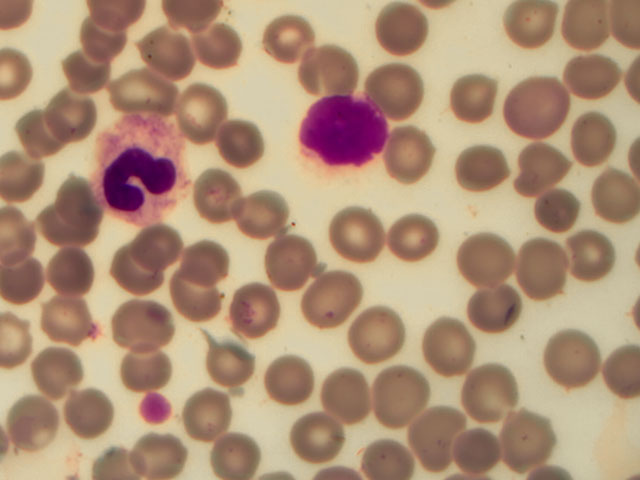Platelets: (140, 391, 175, 426)
RBC: (75, 8, 130, 62), (61, 45, 116, 99), (39, 87, 94, 141), (10, 103, 65, 157), (2, 146, 57, 200), (47, 182, 102, 236), (44, 247, 99, 301), (40, 293, 95, 347), (30, 343, 85, 397), (67, 391, 122, 445), (5, 396, 60, 450), (120, 339, 175, 393), (121, 287, 176, 341), (108, 252, 163, 306), (137, 207, 192, 261), (177, 233, 232, 287), (173, 278, 228, 332), (206, 337, 261, 391), (239, 284, 294, 338), (256, 236, 311, 290), (229, 173, 284, 227), (204, 172, 259, 226), (214, 120, 269, 174), (182, 86, 237, 140), (126, 63, 181, 117), (133, 24, 188, 78), (195, 16, 250, 70), (256, 7, 311, 61), (299, 33, 354, 87), (360, 51, 415, 105), (364, 2, 419, 56), (387, 136, 442, 190), (447, 62, 502, 116), (514, 80, 569, 134), (553, 48, 608, 102), (569, 116, 624, 170), (506, 140, 561, 194), (458, 142, 513, 196), (533, 183, 588, 237), (582, 172, 637, 226), (558, 228, 613, 282), (517, 243, 572, 297), (466, 231, 521, 285), (465, 279, 520, 333), (541, 328, 596, 382), (585, 350, 640, 404), (455, 365, 510, 419), (431, 325, 486, 379), (392, 211, 447, 265), (341, 204, 396, 258), (314, 277, 369, 331), (350, 301, 405, 355), (315, 367, 370, 421), (372, 365, 427, 419), (409, 401, 464, 455), (453, 424, 508, 478), (497, 416, 552, 470), (266, 354, 321, 408), (298, 413, 353, 467), (203, 425, 258, 479), (184, 383, 239, 437), (136, 426, 191, 480), (1, 256, 55, 310), (564, 1, 619, 54), (505, 1, 560, 54)
WBC: (290, 88, 395, 192), (92, 118, 197, 222)
